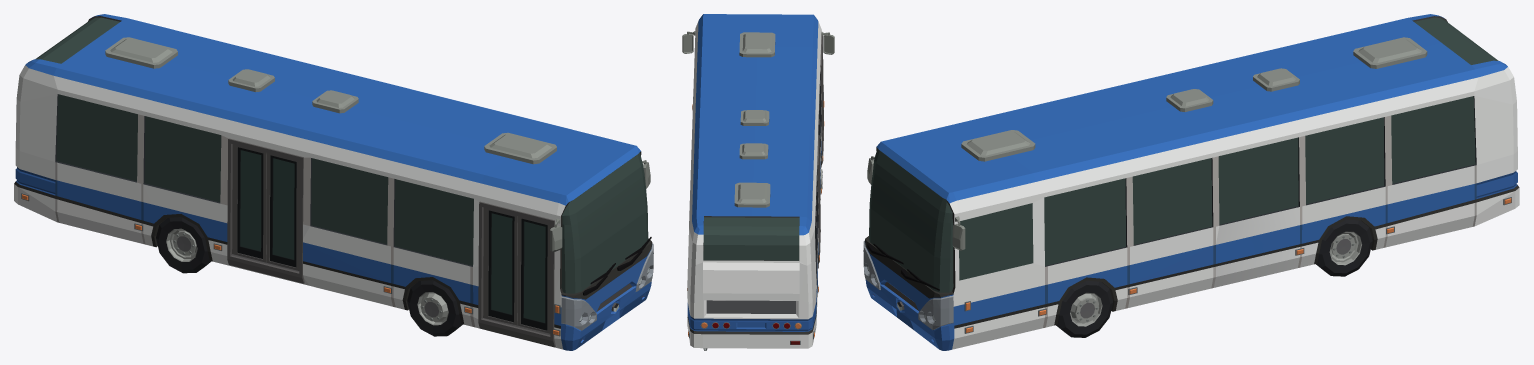
The picture shows the model from 3 angles, left to right: view 1: azimuth 30°, elevation 25°; view 2: azimuth 150°, elevation 25°; view 3: azimuth 270°, elevation 25°; orthographic projection. The views are drawn at different scales.
Parts seen in each view (by area): view 1: bus; view 2: bus; view 3: bus.
Part boxes in pixels (left/top/right/bottom): bus: left=14, top=14, right=653, bottom=350; bus: left=682, top=14, right=834, bottom=350; bus: left=863, top=14, right=1519, bottom=350.
Bounding box in the file's own units: 0.7804 × 0.3327 × 1.1.
Materials: 1 (1 with a texture image).
